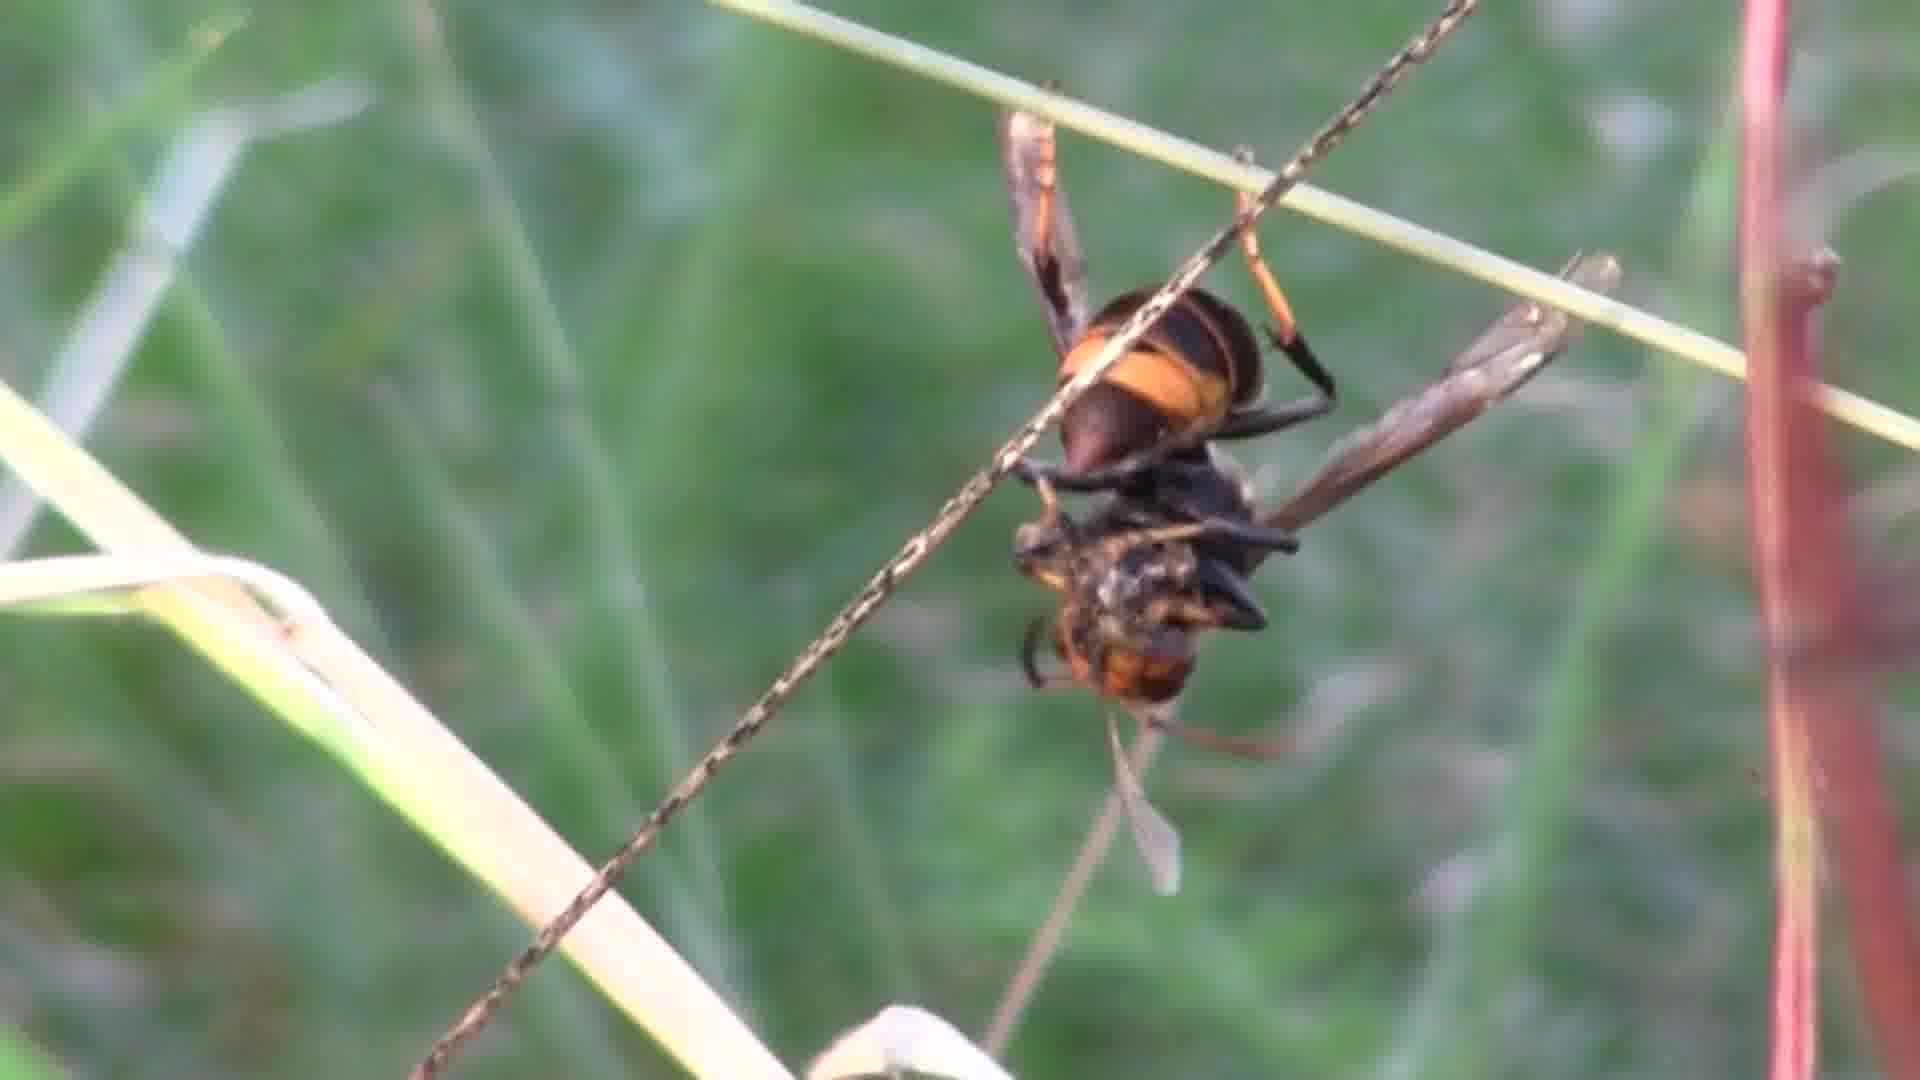hornet: (920, 58, 1356, 793)
